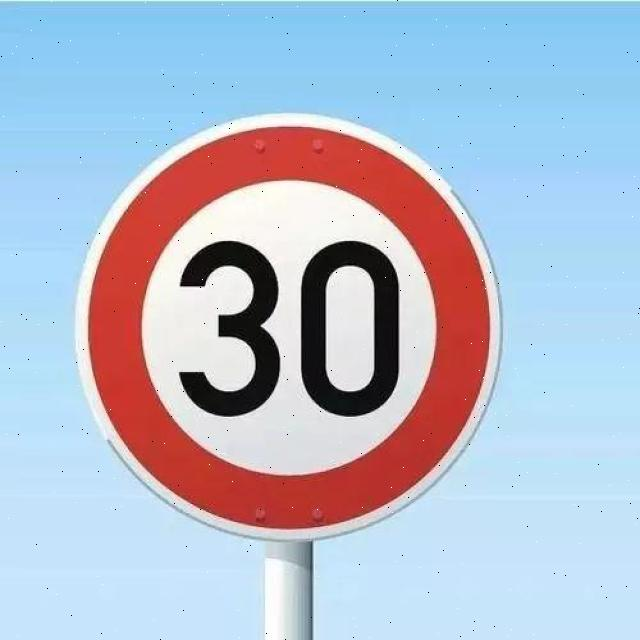speed limit 30: (76, 112, 504, 543)
